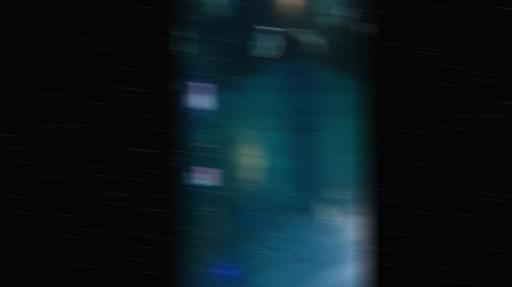Fish: (255, 26, 278, 57), (295, 28, 318, 52), (344, 215, 363, 244), (318, 200, 333, 222), (330, 179, 345, 199), (274, 246, 289, 266), (287, 237, 298, 254), (329, 209, 340, 225), (289, 118, 300, 134), (338, 9, 349, 24), (356, 23, 367, 34), (269, 113, 275, 126), (308, 232, 319, 239), (250, 112, 261, 119), (267, 226, 276, 233), (262, 229, 271, 235), (256, 232, 265, 238), (297, 226, 306, 232), (251, 118, 259, 124), (277, 144, 286, 149), (258, 127, 269, 131), (271, 128, 282, 132), (264, 239, 270, 246), (253, 133, 259, 140), (267, 241, 273, 247), (260, 230, 266, 236), (182, 83, 186, 92), (298, 129, 313, 131), (252, 125, 261, 128), (262, 105, 268, 108), (363, 18, 366, 22), (266, 109, 270, 112)
